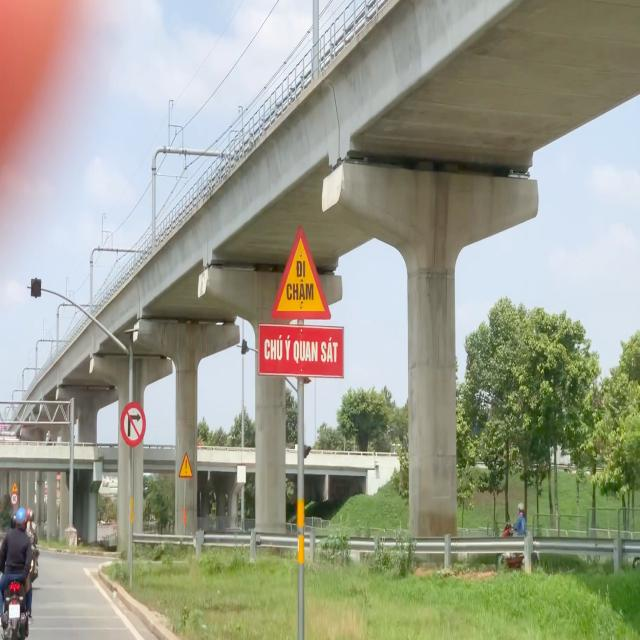Cam re phai: (120, 402, 147, 446)
Nguy hiem: (268, 221, 334, 324), (180, 449, 198, 480)
